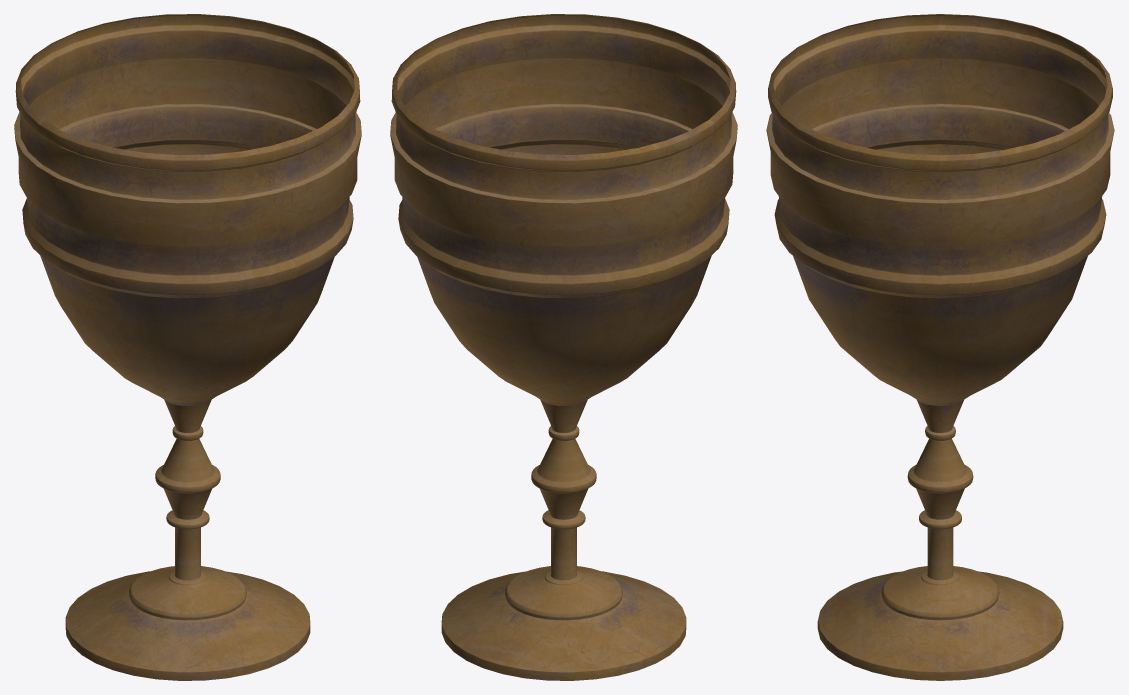
Rendered from Copa.fbx.
The picture shows the model from 3 angles, left to right: view 1: azimuth 30°, elevation 25°; view 2: azimuth 150°, elevation 25°; view 3: azimuth 270°, elevation 25°; orthographic projection.
Parts seen in each view (by area): view 1: Copa; view 2: Copa; view 3: Copa.
Part boxes in pixels (x1,y1,x2,y2): Copa: (14, 14, 361, 680); Copa: (390, 14, 737, 680); Copa: (766, 14, 1114, 680).
Bounding box in the file's own units: 66.05 × 114 × 66.05.
Materials: 1 (1 with a texture image).
